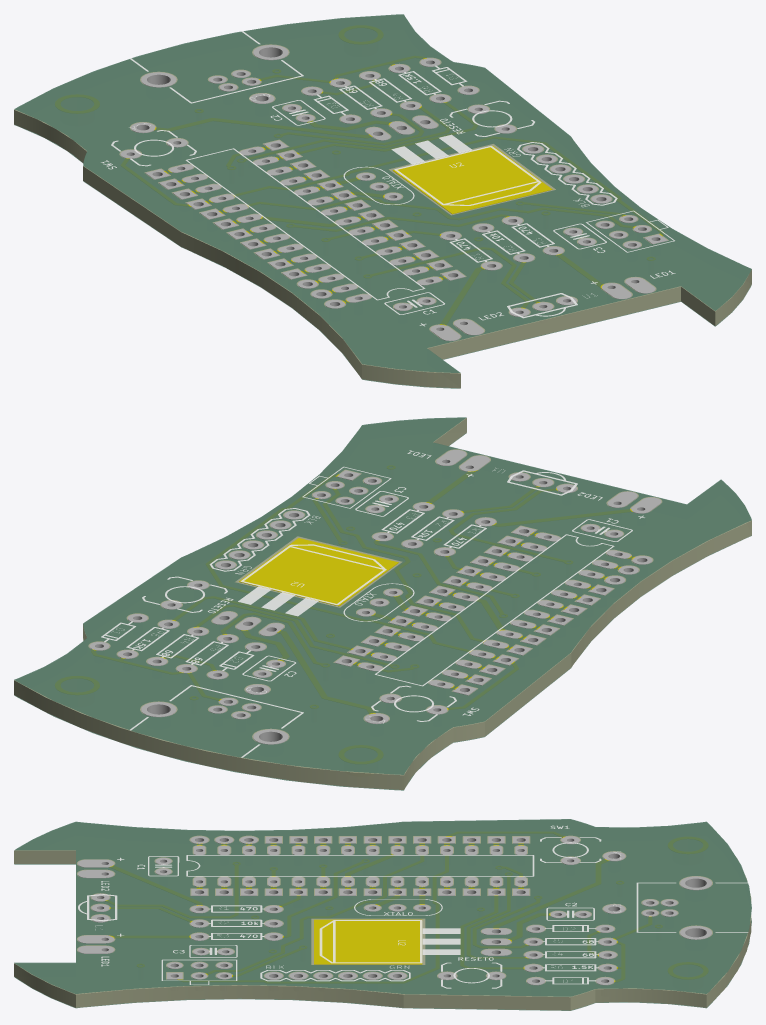
Rendered from hardware-hacking-village-learn-to-solder-kit.glb.
3 renders of one model, top to bottom at view 1: azimuth 30°, elevation 25°; view 2: azimuth 150°, elevation 25°; view 3: azimuth 270°, elevation 25°, orthographic. The views are drawn at different scales.
Visible parts, largest first — view 1: =>[0:1:1:7], =>[0:1:1:9], =>[0:1:1:2], =>[0:1:1:5]; view 2: =>[0:1:1:7], =>[0:1:1:9], =>[0:1:1:2], =>[0:1:1:5]; view 3: =>[0:1:1:7], =>[0:1:1:9], =>[0:1:1:2], =>[0:1:1:5].
Part boxes in pixels (x1=…): =>[0:1:1:7]: x1=14, y1=14, x2=751, y2=388; =>[0:1:1:9]: x1=14, y1=15, x2=751, y2=388; =>[0:1:1:2]: x1=55, y1=26, x2=667, y2=341; =>[0:1:1:5]: x1=101, y1=31, x2=675, y2=326; =>[0:1:1:7]: x1=14, y1=417, x2=751, y2=790; =>[0:1:1:9]: x1=14, y1=418, x2=751, y2=789; =>[0:1:1:2]: x1=55, y1=450, x2=661, y2=763; =>[0:1:1:5]: x1=101, y1=450, x2=644, y2=757; =>[0:1:1:7]: x1=14, y1=819, x2=751, y2=1010; =>[0:1:1:9]: x1=14, y1=820, x2=751, y2=1010; =>[0:1:1:2]: x1=78, y1=832, x2=711, y2=985; =>[0:1:1:5]: x1=78, y1=825, x2=748, y2=988.
Size of the model in its own units: 0.0432 by 0.00166 by 0.0758.
Materials: 4 (4 with a texture image).
